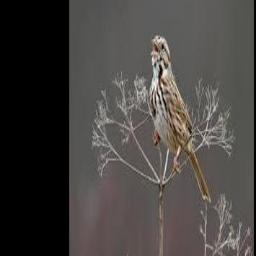Sparrow: (149, 34, 211, 203)
